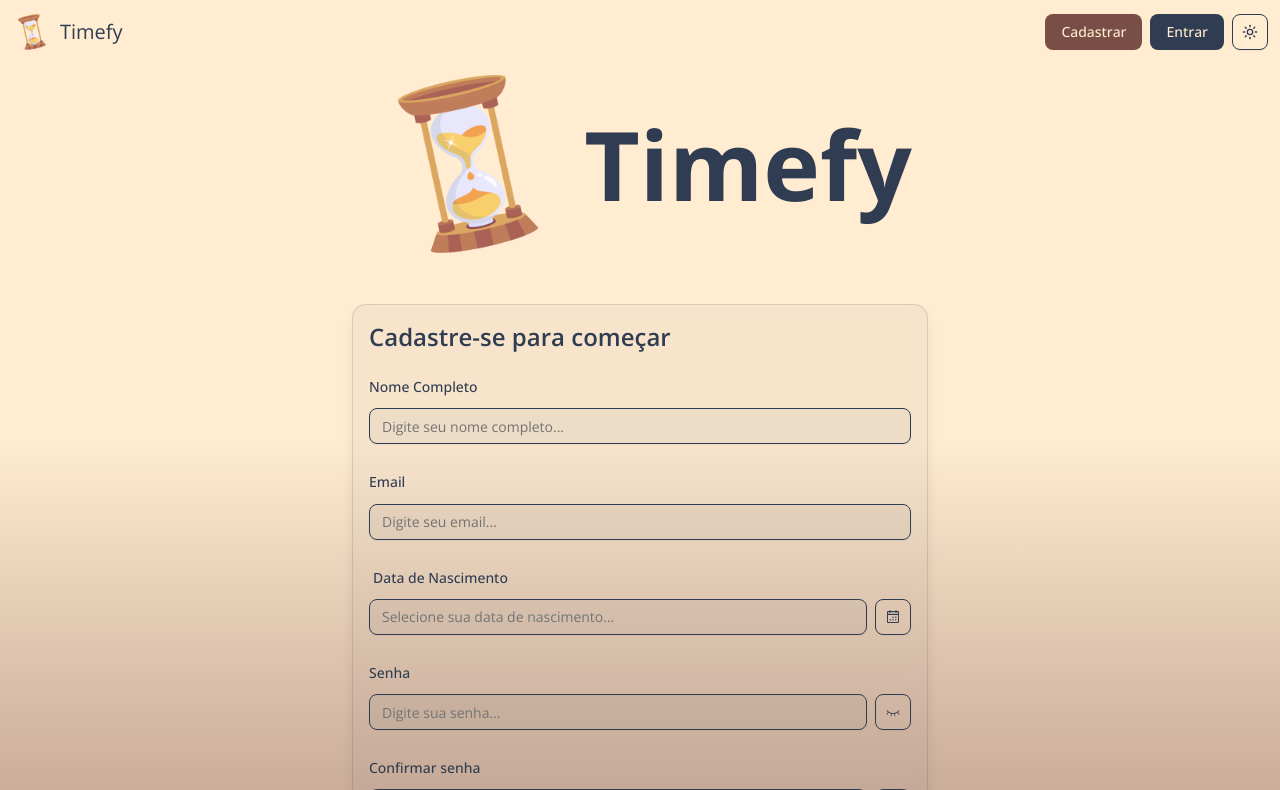
SignUpPage › Form Validation › should show error when full name is too short
The width and height of the screenshot is (1280, 790).
In the field labelled "Nome Completo": (640, 426) x1=369 y1=408 x2=911 y2=444, type "Jo"
(page scrolled)
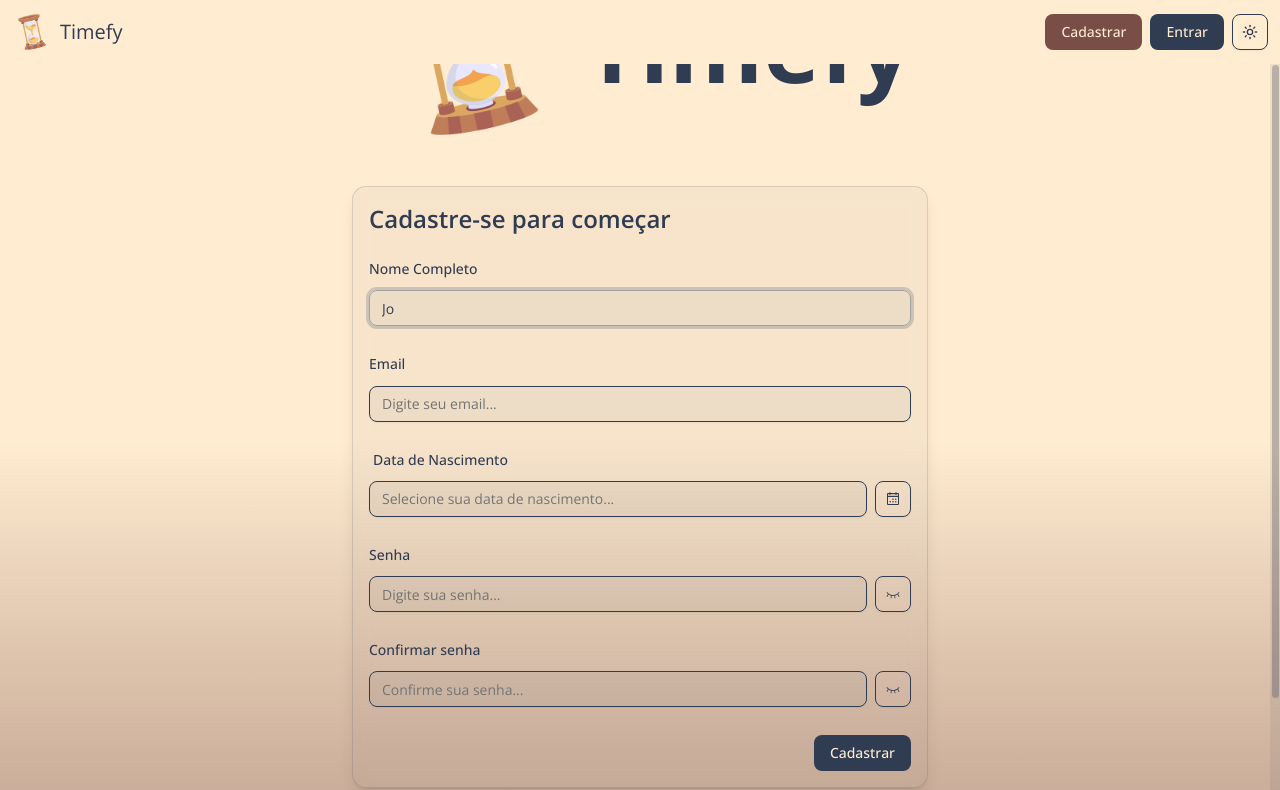
Click the 2nd button "Cadastrar": click(862, 753) x1=814 y1=735 x2=911 y2=771
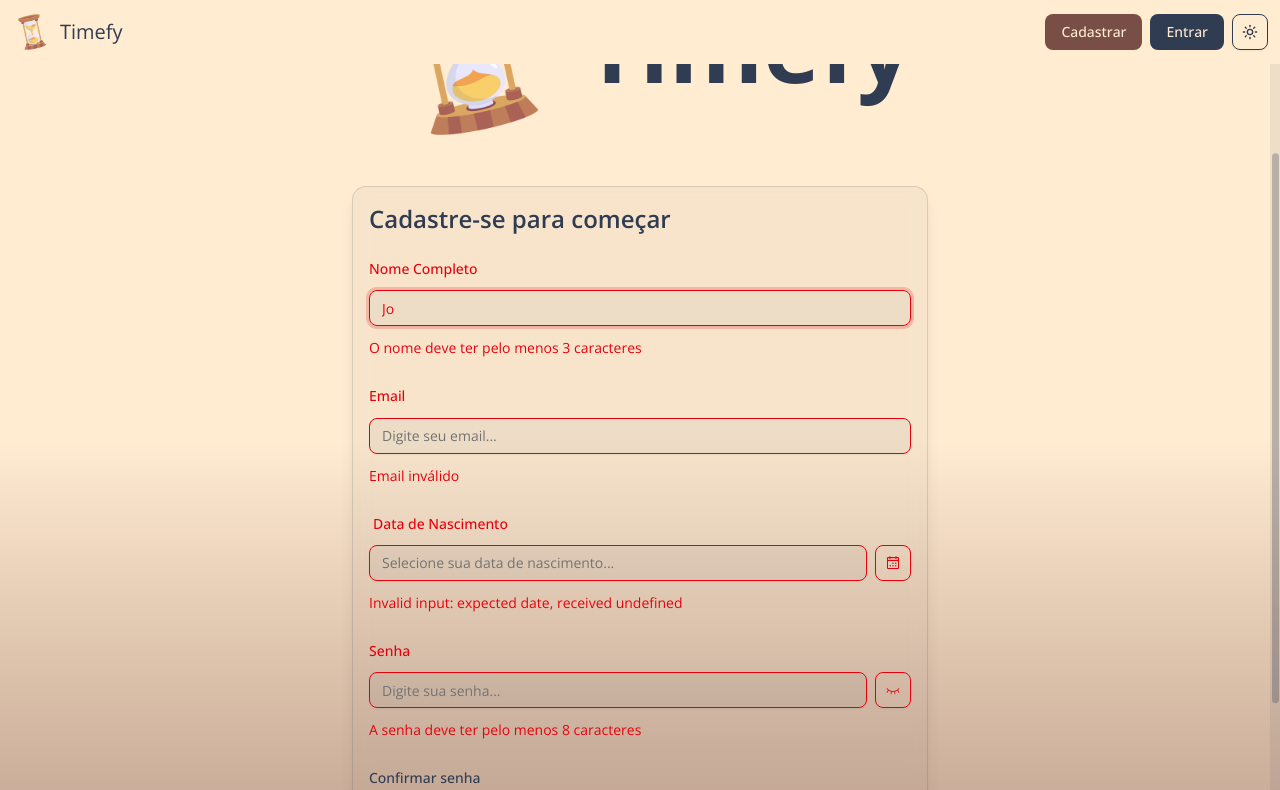
Expected: the text "O nome deve ter pelo menos 3 caracteres" is shown, x1=369 y1=338 x2=642 y2=357
